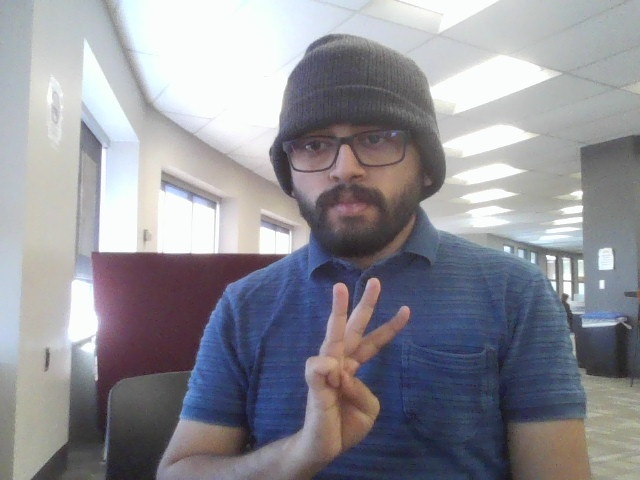start: (294, 274, 424, 459)
